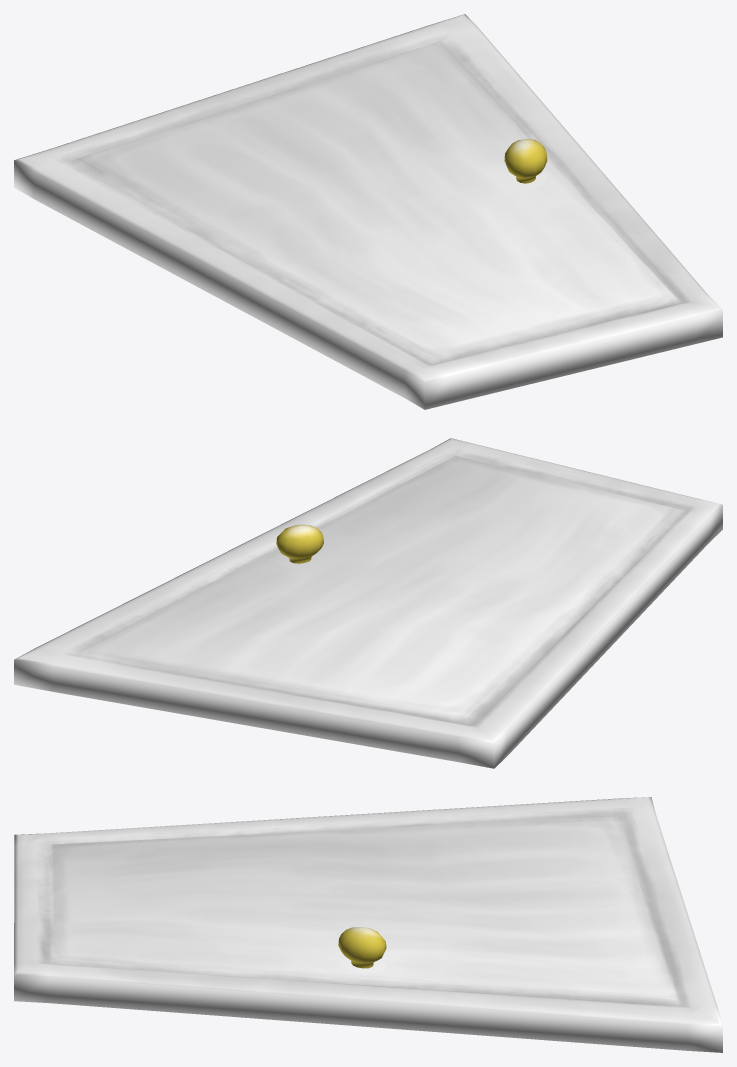
Rendered from simple_door.fbx.
3 views of the same model, one above another, from view 1: azimuth 30°, elevation 25°; view 2: azimuth 150°, elevation 25°; view 3: azimuth 270°, elevation 25° (orthographic). The views are drawn at different scales.
Parts seen in each view (by area): view 1: Door; view 2: Door; view 3: Door.
Boxes of the visible parts, x1,y1,x2,y2 form: Door: (14,14,722,409); Door: (14,438,722,768); Door: (14,797,722,1052).
Size of the model in its own units: 468 by 61.35 by 611.
